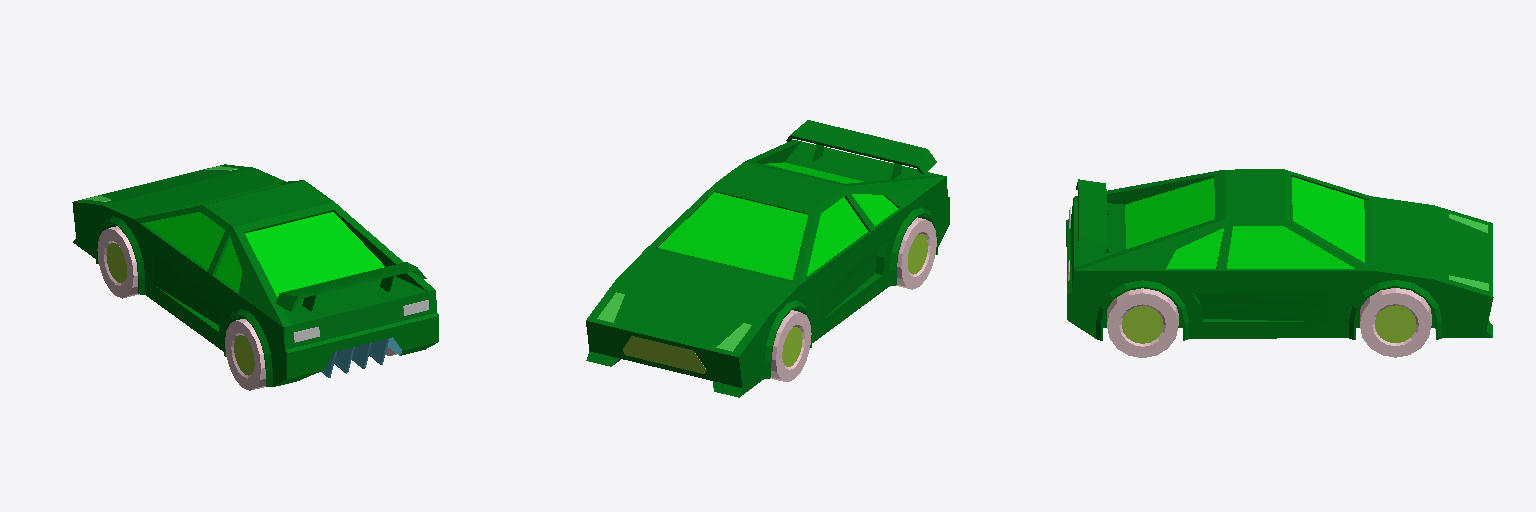
File: ferara.obj
3 renders of one model, left to right at view 1: azimuth 30°, elevation 25°; view 2: azimuth 150°, elevation 25°; view 3: azimuth 270°, elevation 25°, orthographic.
Parts seen in each view (by area): view 1: Cube_Cube.001; view 2: Cube_Cube.001; view 3: Cube_Cube.001.
Boxes of the visible parts, x1=… form: Cube_Cube.001: x1=72, y1=164, x2=438, y2=390; Cube_Cube.001: x1=586, y1=120, x2=949, y2=397; Cube_Cube.001: x1=1066, y1=169, x2=1493, y2=357.
Bounding box in the file's own units: 543 × 385 × 1207.